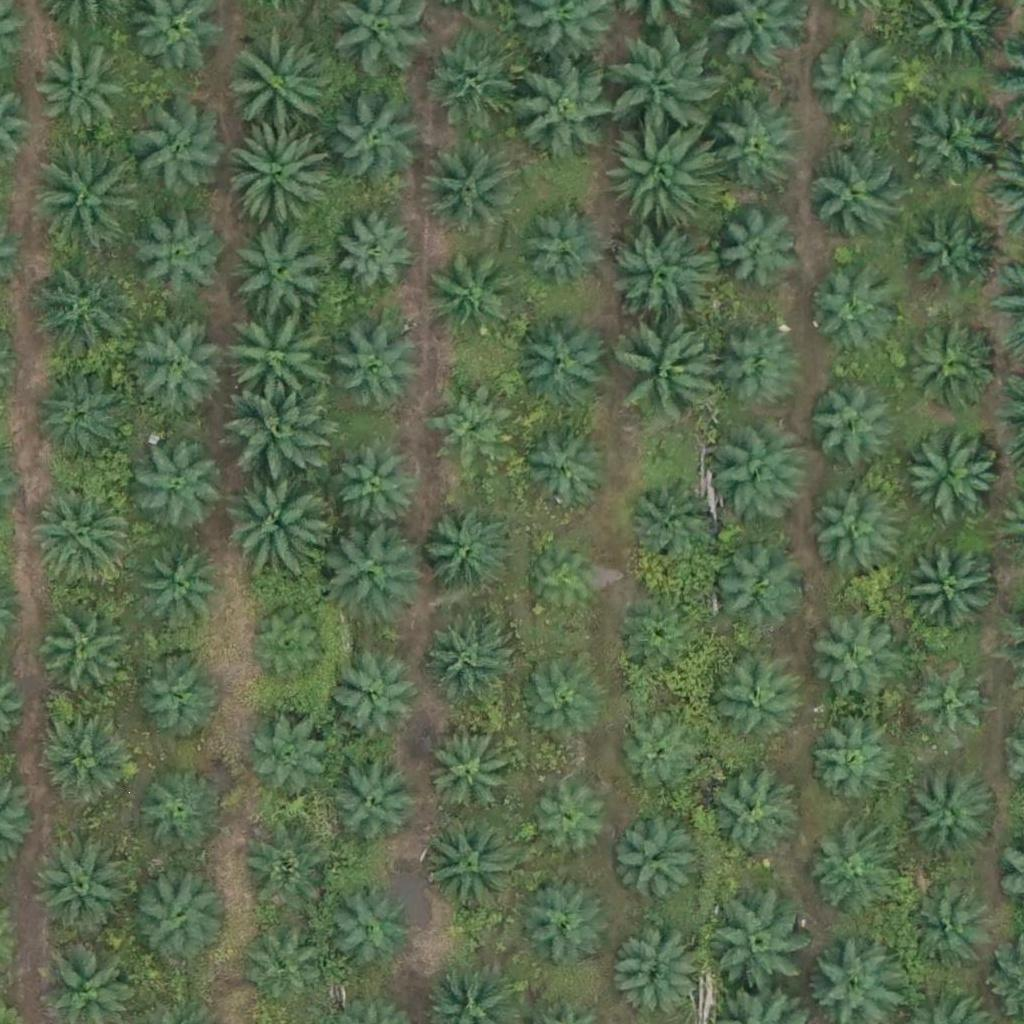Kelapa_Sawit: (607, 27, 720, 140), (31, 146, 144, 259), (890, 86, 1002, 199), (604, 120, 716, 233), (225, 121, 337, 234), (32, 263, 132, 364), (33, 480, 133, 581), (39, 711, 139, 812), (124, 314, 224, 415), (129, 860, 229, 961), (225, 314, 325, 415), (223, 467, 323, 568), (326, 523, 426, 624), (421, 819, 521, 920), (619, 325, 719, 426), (626, 473, 726, 574), (699, 769, 799, 870), (714, 894, 814, 995), (804, 606, 904, 707), (899, 540, 999, 641), (901, 421, 1001, 522), (897, 312, 997, 413), (803, 146, 903, 247), (809, 35, 909, 136), (706, 96, 806, 197), (233, 216, 333, 317), (127, 203, 227, 304), (131, 99, 231, 200), (33, 36, 133, 137), (31, 839, 131, 939), (230, 385, 330, 485), (509, 316, 609, 416), (516, 420, 616, 520), (709, 427, 809, 527), (610, 228, 710, 328), (520, 65, 620, 165), (419, 140, 519, 240), (426, 32, 526, 132), (227, 28, 327, 128), (425, 512, 513, 601), (40, 380, 128, 468), (134, 651, 222, 739), (135, 771, 223, 859), (249, 715, 337, 803), (242, 829, 330, 917), (335, 447, 423, 535), (327, 658, 415, 746), (331, 759, 419, 847), (323, 888, 411, 976), (428, 255, 516, 343), (428, 382, 516, 470), (425, 618, 513, 706), (621, 597, 709, 685), (711, 324, 799, 412), (712, 545, 800, 633), (708, 657, 796, 745), (809, 382, 897, 470), (809, 489, 897, 577), (806, 722, 894, 810), (908, 766, 996, 854), (904, 207, 992, 295), (515, 208, 603, 296), (137, 537, 224, 626), (902, 659, 989, 748), (39, 609, 126, 697), (137, 447, 224, 535), (240, 924, 327, 1012), (243, 606, 330, 694), (332, 326, 419, 414), (428, 732, 515, 820), (523, 878, 610, 966), (530, 774, 617, 862), (518, 651, 605, 739), (617, 714, 704, 802), (616, 823, 703, 911), (613, 931, 700, 1019), (805, 829, 892, 917), (903, 887, 990, 975), (802, 271, 889, 359), (713, 203, 800, 291), (333, 98, 420, 186), (334, 206, 421, 294), (528, 545, 603, 621)
